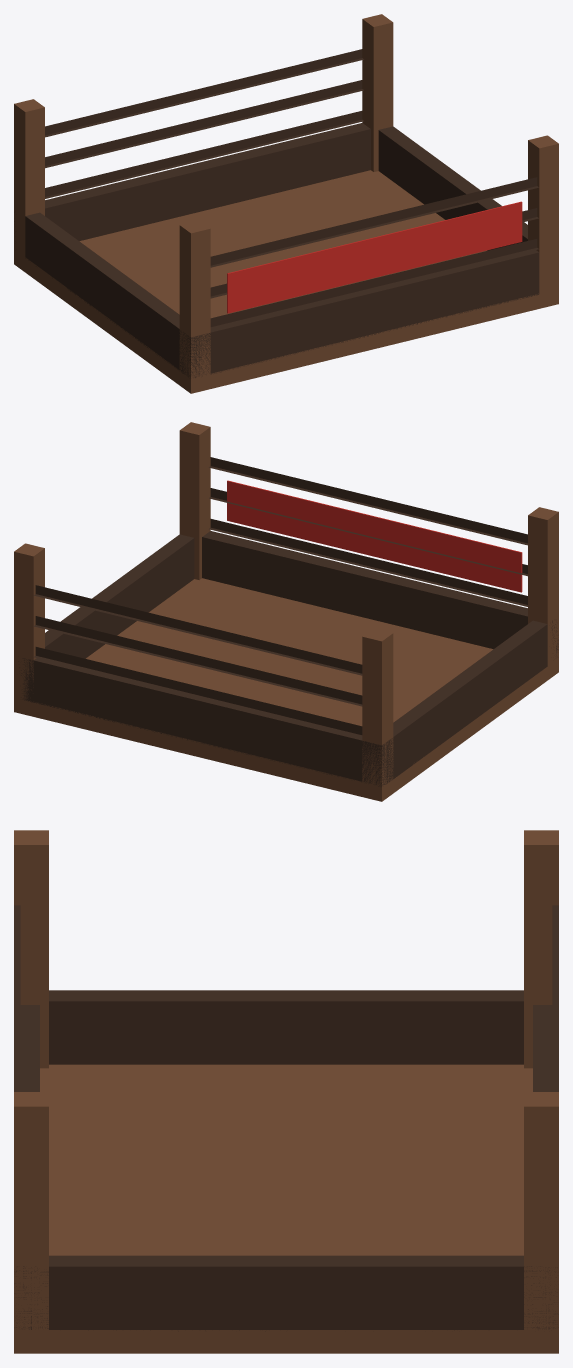
File: CRATE_RUBY_6X2_5.obj
3 renders of one model, top to bottom at view 1: azimuth 30°, elevation 25°; view 2: azimuth 150°, elevation 25°; view 3: azimuth 270°, elevation 25°, orthographic. The views are drawn at different scales.
Parts seen in each view (by area): view 1: ART003_PROP; view 2: ART003_PROP; view 3: ART003_PROP.
Part boxes in pixels (box(x1,y1,x2,y2)): ART003_PROP: box(14, 14, 558, 393); ART003_PROP: box(14, 422, 558, 801); ART003_PROP: box(14, 830, 558, 1353).
Bounding box in the file's own units: 6 × 2.5 × 5.
